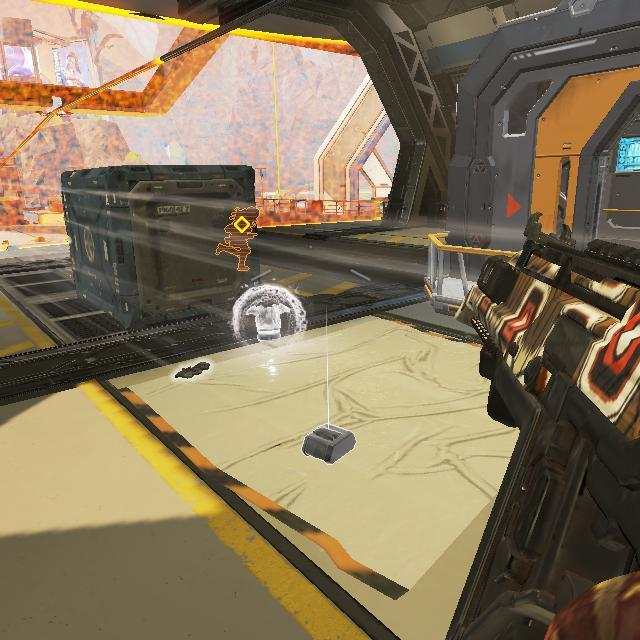avatar: (214, 204, 261, 273)
object: (232, 215, 251, 235)
